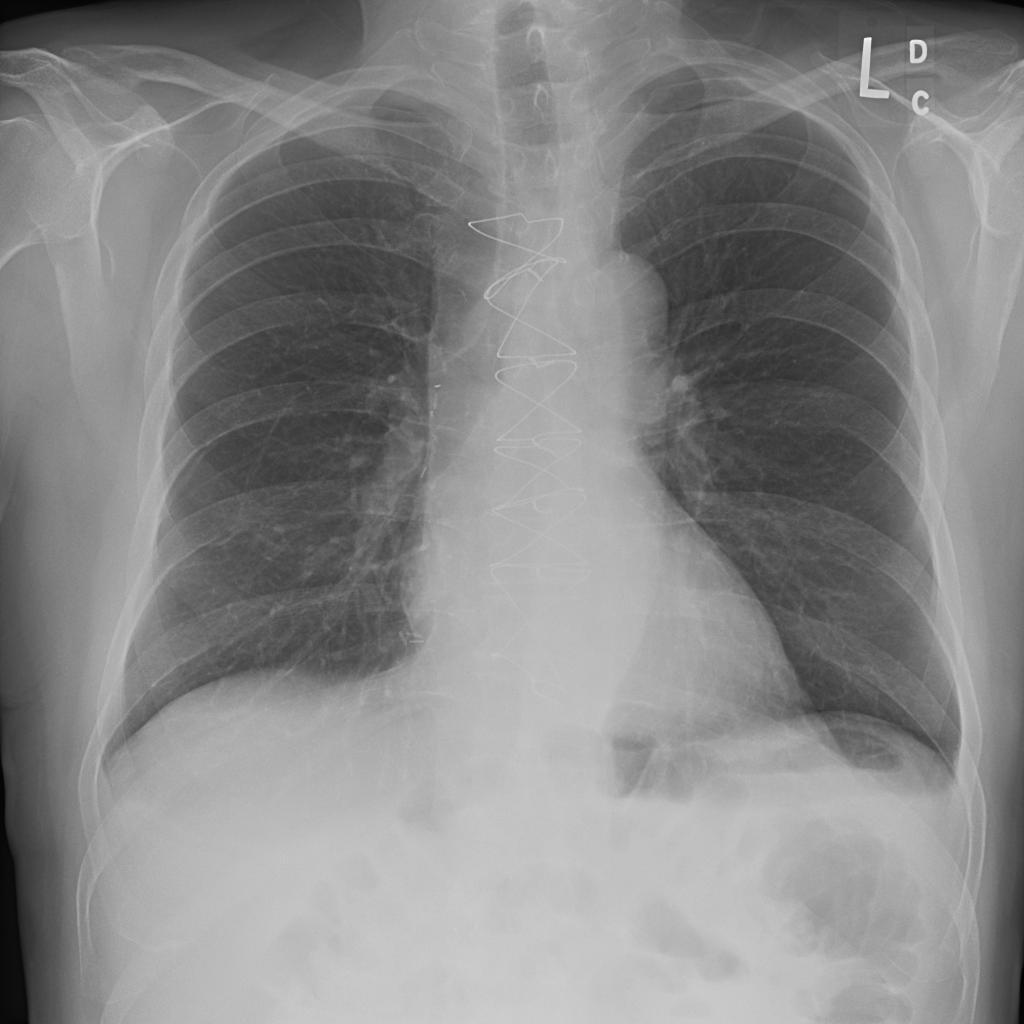Nodule: (404, 316, 445, 375), (70, 320, 106, 355)
